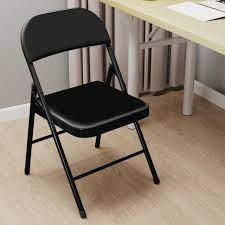chair: (10, 6, 182, 218)
